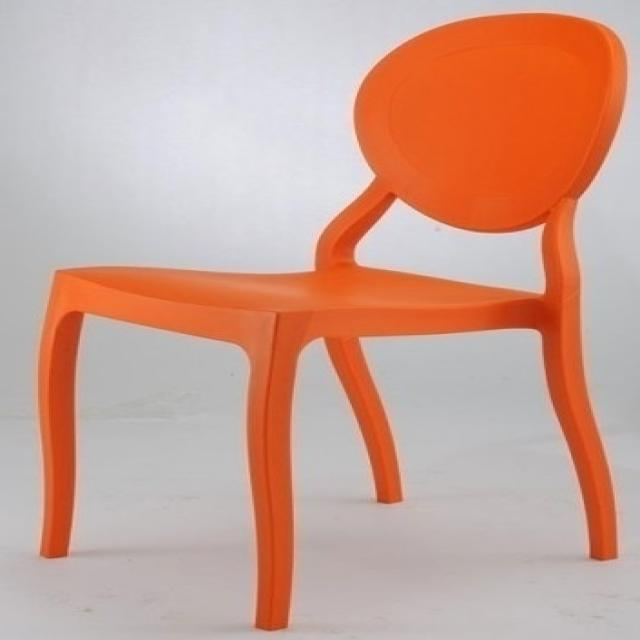chair: (32, 9, 626, 636)
